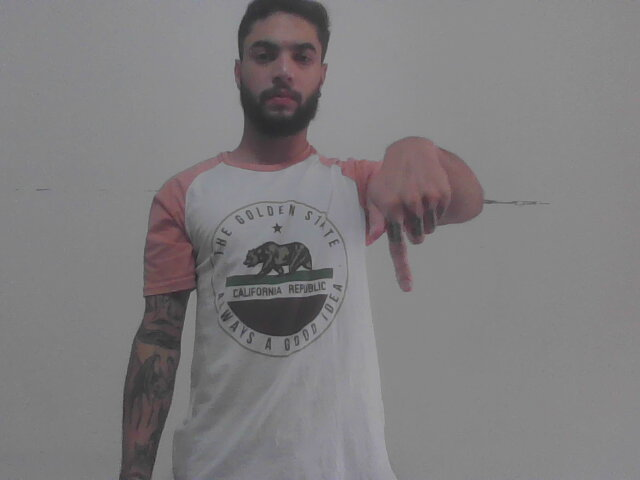q: (358, 133, 458, 294)
